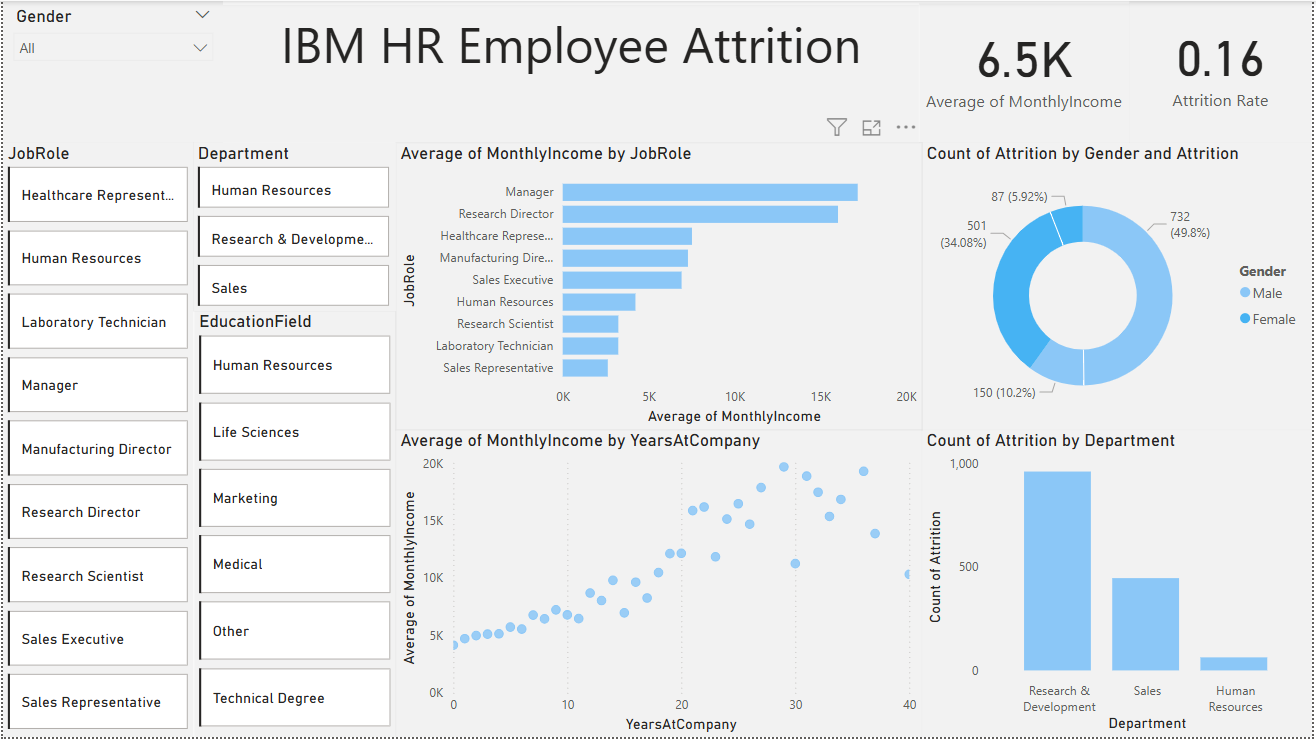

The dashboard page shown, as its layout file describes it:
{"tool":"powerbi","page":{"name":"Page 1","canvas":[1280,720],"ordinal":0},"visuals":[{"type":"barChart","fields":{"Category":["cleaned_IBM.JobRole"],"Y":["Avg(cleaned_IBM.MonthlyIncome)"]},"box":[384,138.2,514.8,281.3],"z":0},{"type":"scatterChart","fields":{"Y":["Avg(cleaned_IBM.MonthlyIncome)"],"X":["cleaned_IBM.YearsAtCompany"]},"box":[384,419.4,514.8,300.8],"z":1000},{"type":"donutChart","fields":{"Y":["CountNonNull(cleaned_IBM.Attrition)"],"Category":["cleaned_IBM.Gender"],"Series":["cleaned_IBM.Attrition"]},"box":[898.8,138.2,381.5,281.3],"z":2000},{"type":"card","fields":{"Values":["cleaned_IBM.Attrition Rate"]},"box":[1101.8,0,178.5,138.2],"z":3000},{"type":"card","fields":{"Values":["Avg(cleaned_IBM.MonthlyIncome)"]},"box":[896.3,2.4,205.4,135.7],"z":4000},{"type":"columnChart","fields":{"Category":["cleaned_IBM.Department"],"Y":["CountNonNull(cleaned_IBM.Attrition)"]},"box":[898.8,419.9,381.5,300.5],"z":5000},{"type":"slicer","fields":{"Values":["cleaned_IBM.Gender"]},"box":[0,0,215.2,138.2],"z":6000},{"type":"advancedSlicerVisual","fields":{"Values":["cleaned_IBM.Department"]},"box":[186.3,137.9,198,165.7],"z":7000},{"type":"advancedSlicerVisual","fields":{"Values":["cleaned_IBM.JobRole"]},"box":[0,137.9,186.3,582.2],"z":8000},{"type":"advancedSlicerVisual","fields":{"Values":["cleaned_IBM.EducationField"]},"box":[186.6,303.3,197.6,417.2],"z":9000},{"type":"textbox","box":[215.2,3.7,681.1,134.5],"z":10000}]}

Visuals, with their boxes in screenshot pixels (x1, y1, x2, y2), scaled from the page's 1280x720 canvas onto the 1316x741 screenshot:
barChart - cleaned_IBM.JobRole x Avg(cleaned_IBM.MonthlyIncome): 395:142:924:432
scatterChart - Avg(cleaned_IBM.MonthlyIncome) x cleaned_IBM.YearsAtCompany: 395:432:924:740
donutChart - CountNonNull(cleaned_IBM.Attrition) x cleaned_IBM.Gender: 924:142:1315:432
card - cleaned_IBM.Attrition Rate: 1133:0:1315:142
card - Avg(cleaned_IBM.MonthlyIncome): 922:2:1133:142
columnChart - cleaned_IBM.Department x CountNonNull(cleaned_IBM.Attrition): 924:432:1315:740
slicer - cleaned_IBM.Gender: 0:0:221:142
advancedSlicerVisual - cleaned_IBM.Department: 192:142:395:312
advancedSlicerVisual - cleaned_IBM.JobRole: 0:142:192:740
advancedSlicerVisual - cleaned_IBM.EducationField: 192:312:395:740
textbox: 221:4:922:142
